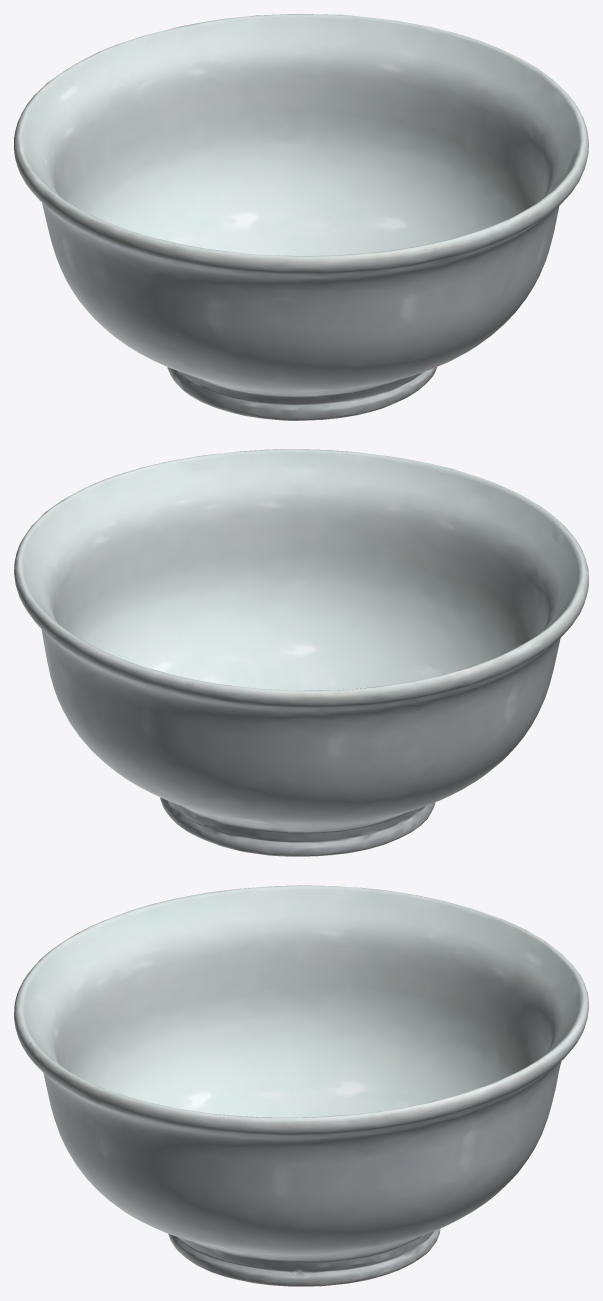
The model's file is Calphalon_Kitchen_Essentials_12_Cast_Iron_Fry_Pan_Black.glb.
The picture shows the model from 3 angles, top to bottom: view 1: azimuth 30°, elevation 25°; view 2: azimuth 150°, elevation 25°; view 3: azimuth 270°, elevation 25°; orthographic projection.
Parts seen in each view (by area): view 1: Calphalon_Kitchen_Essentials_12_Cast_Iron_Fry_Pan_Black; view 2: Calphalon_Kitchen_Essentials_12_Cast_Iron_Fry_Pan_Black; view 3: Calphalon_Kitchen_Essentials_12_Cast_Iron_Fry_Pan_Black.
Part boxes in pixels (box(x1,y1,x2,y2)): Calphalon_Kitchen_Essentials_12_Cast_Iron_Fry_Pan_Black: box(14, 14, 588, 420); Calphalon_Kitchen_Essentials_12_Cast_Iron_Fry_Pan_Black: box(14, 449, 588, 856); Calphalon_Kitchen_Essentials_12_Cast_Iron_Fry_Pan_Black: box(14, 885, 588, 1286).
Bounding box in the file's own units: 0.3224 × 0.1462 × 0.3236.
Materials: 1 (1 with a texture image).
